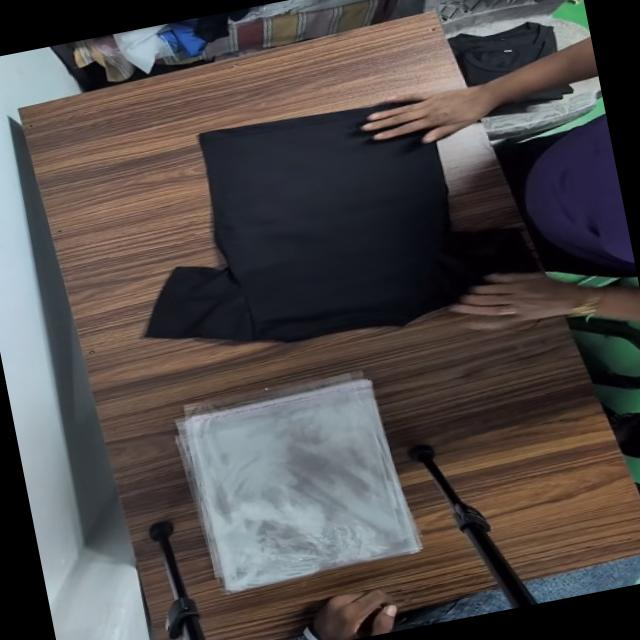new-garment: (148, 109, 478, 342)
